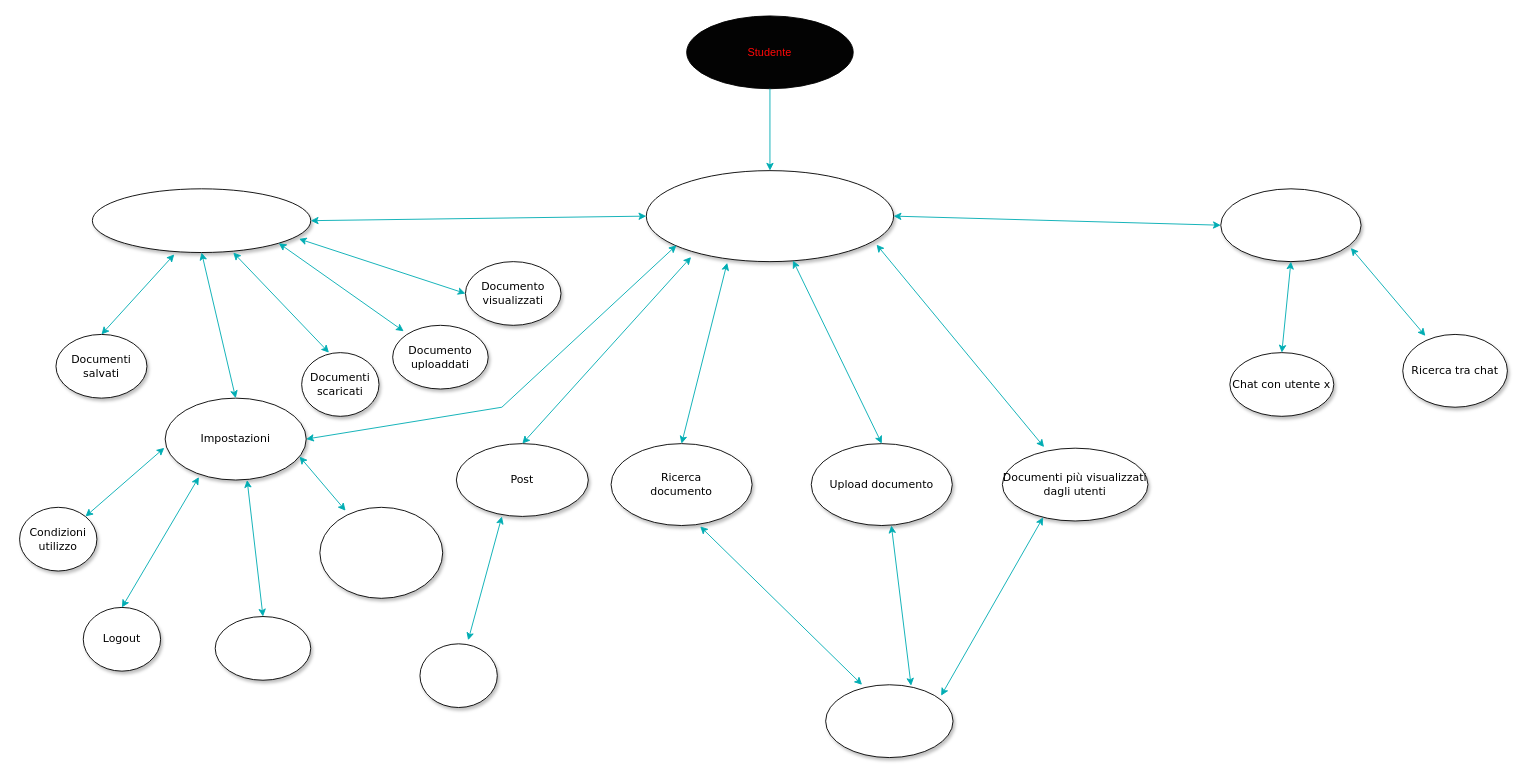
Image size: 1529x780. Some labels were removed from this diagram. Each missing label, with the centre of its shape:
"Aggiorna facoltà ed Università" belongs at point (381, 554).
"Area Personale" belongs at point (202, 221).
"Chat" belongs at point (1291, 226).
"Crea nuovo post" belongs at point (459, 676).
"Documento" belongs at point (890, 722).
"Gestione notifiche" belongs at point (263, 649).
"Homepage" belongs at point (770, 217).
